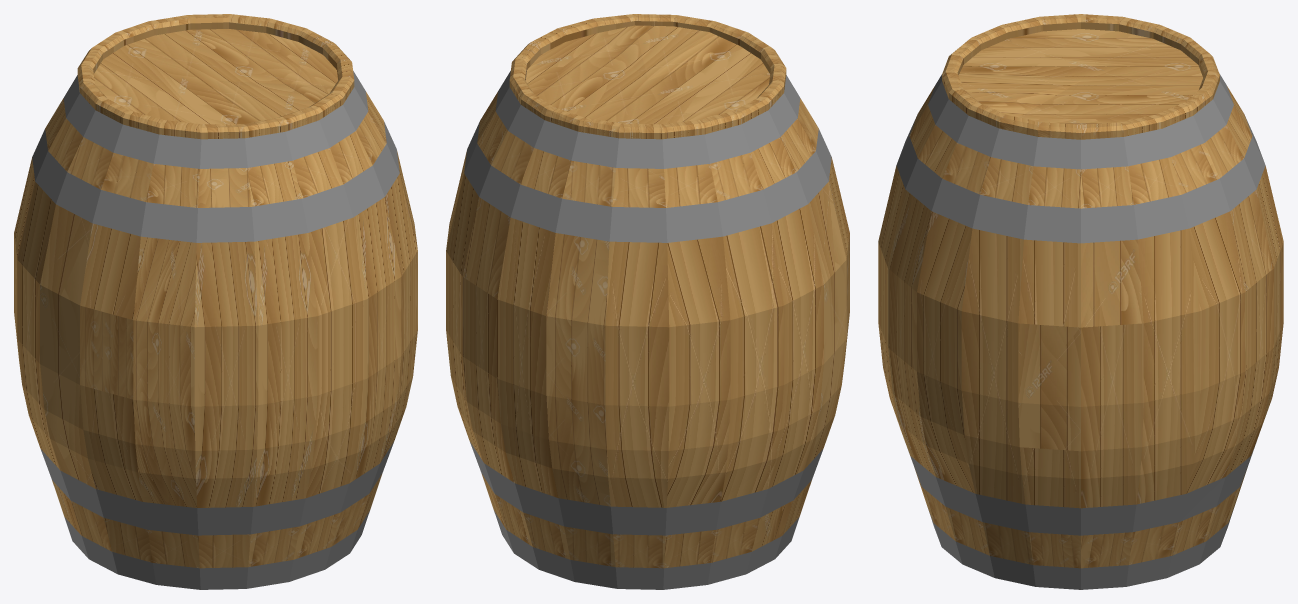
File: bucket.fbx
3 renders of one model, left to right at view 1: azimuth 30°, elevation 25°; view 2: azimuth 150°, elevation 25°; view 3: azimuth 270°, elevation 25°, orthographic.
Parts seen in each view (by area): view 1: pCylinder1; view 2: pCylinder1; view 3: pCylinder1.
Part boxes in pixels (<box>): pCylinder1: <box>14,14,417,589</box>; pCylinder1: <box>446,14,849,589</box>; pCylinder1: <box>878,14,1283,589</box>.
Size of the model in its own units: 2.65 by 3.29 by 2.65.
2 materials, 1 textured.
